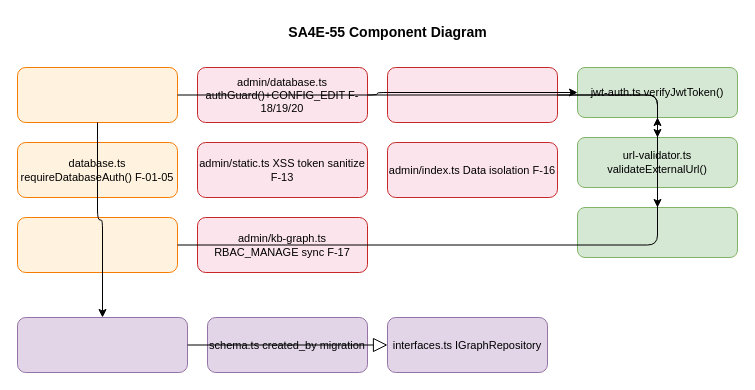
Some shapes in this 755 by 390 pixel diagram are drawn without their labels. Each missing label, with the box of its shape:
admin/config.ts CONFIG_EDIT+SSRF F-14/15: (386, 66, 558, 122)
admin/context.ts AdminContext: (576, 206, 738, 258)
api-index.ts requireAuth() F-06/07/08: (16, 66, 178, 122)
GraphRepository.ts registerProject(createdBy): (16, 316, 188, 372)
tools.ts resolveCallerIdentity() F-09/10: (16, 216, 178, 272)
